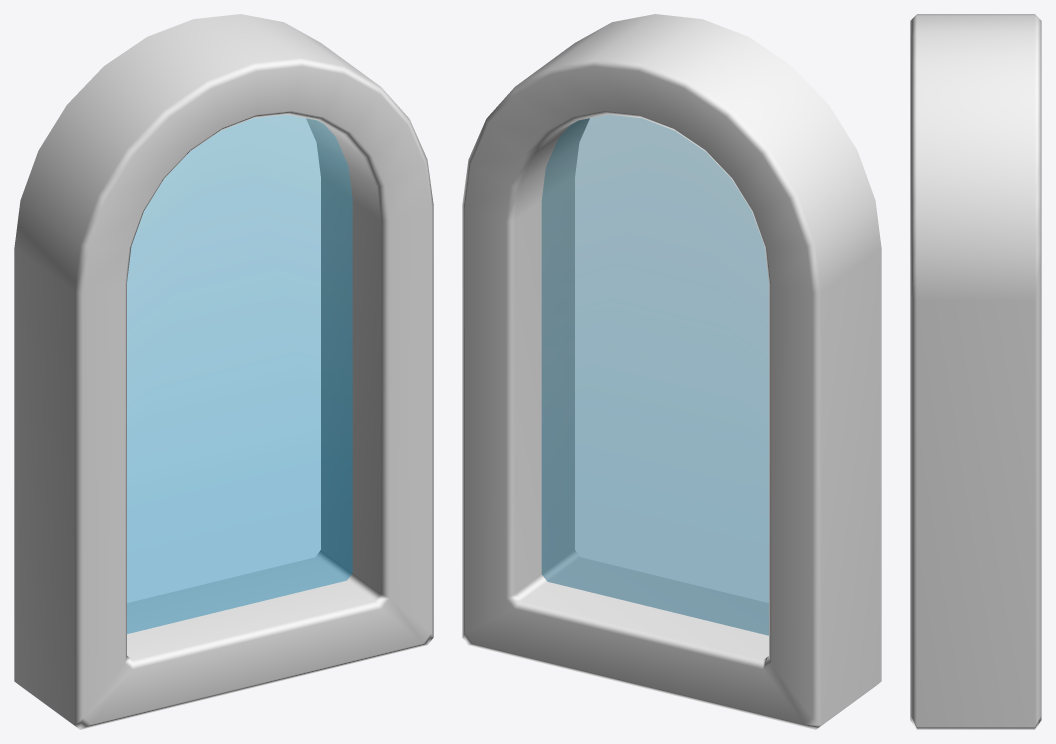
Rendered from Window_White_17.glb.
3 renders of one model, left to right at view 1: azimuth 30°, elevation 25°; view 2: azimuth 150°, elevation 25°; view 3: azimuth 270°, elevation 25°, orthographic.
Parts seen in each view (by area): view 1: Window_White_17; view 2: Window_White_17; view 3: Window_White_17.
Part boxes in pixels (x1,y1,x2,y2): Window_White_17: [14, 14, 433, 729]; Window_White_17: [462, 14, 881, 729]; Window_White_17: [910, 14, 1041, 729].
Size of the model in its own units: 1.24 by 2.07 by 0.4.
2 materials, 2 textured.
